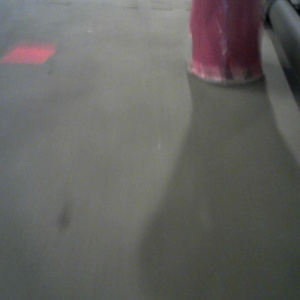right: (187, 1, 264, 84)
